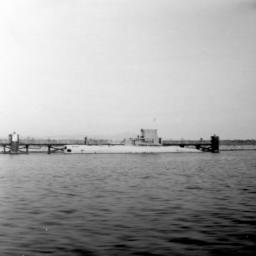submarine: (62, 131, 205, 156)
